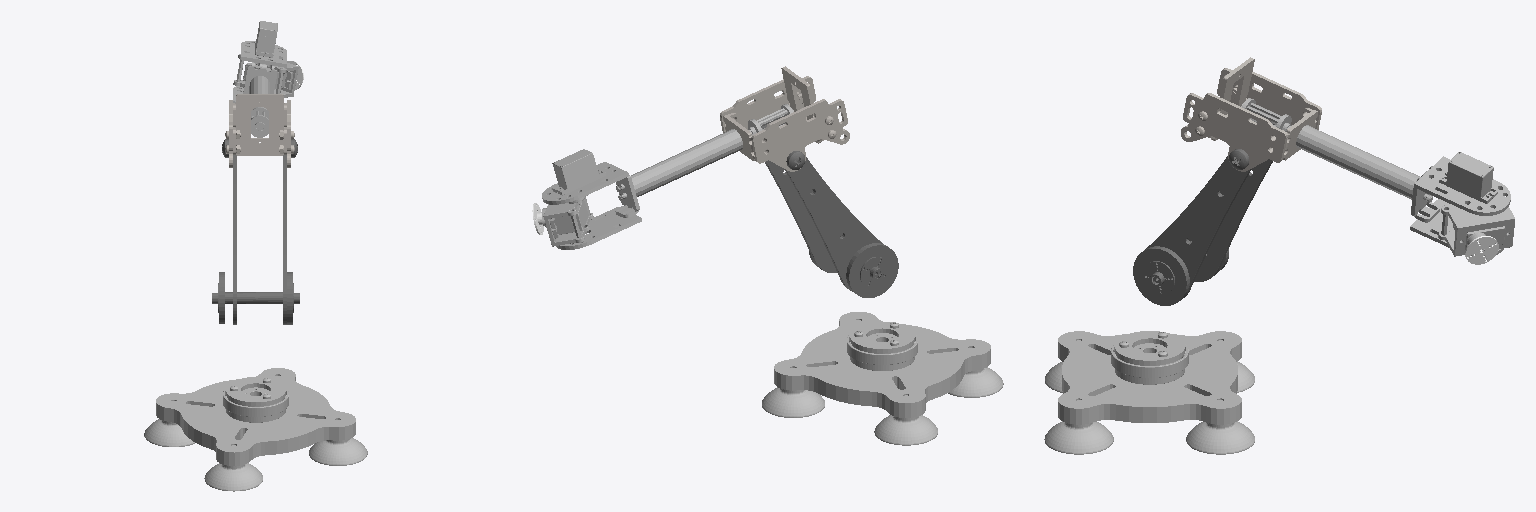
The robot description file, URDF, robot "/brazo_PF":
<robot
  name="/brazo_PF">

<link name="world"/>

  <joint name="fixed" type="fixed">
    <parent link="world"/>
    <child link="base_to_giro"/>
  </joint>

  <link
    name="base_to_giro">
    <inertial>
      <origin
        xyz="4.8481E-15 -1.6518E-13 0.0065907"
        rpy="0 0 0" />
      <mass
        value="0.26727" />
      <inertia
        ixx="0.0002228"
        ixy="-1.3665E-15"
        ixz="-3.2911E-09"
        iyy="0.0002228"
        iyz="-1.9001E-09"
        izz="0.00042782" />
    </inertial>
    <visual>
      <origin
        xyz="0 0 0"
        rpy="0 0 0" />
      <geometry>
        <mesh
          filename="package://brazo_PF/meshes/base_link.dae" />
      </geometry>
      <material
        name="">
        <color
          rgba="0.75294 0.75294 0.75294 1" />
      </material>
    </visual>
    <collision>
      <origin
        xyz="0.0001 0.0001 0.0001"
        rpy="0 0 0" />
      <geometry>
        <mesh
          filename="package://brazo_PF/meshes/base_link.dae" />
      </geometry>
    </collision>
  </link>
  <link
    name="link_giro">
    <inertial>
      <origin
        xyz="0.00096417 0.0016711 0.021724"
        rpy="0 0 0" />
      <mass
        value="0.26292" />
      <inertia
        ixx="0.0002813"
        ixy="3.324E-05"
        ixz="-1.4029E-05"
        iyy="0.00031973"
        iyz="-2.4312E-05"
        izz="0.00032314" />
    </inertial>
    <visual>
      <origin
        xyz="0 0 0"
        rpy="0 0 0" />
      <geometry>
        <mesh
          filename="package://brazo_PF/meshes/link_giro.dae" />
      </geometry>
      <material
        name="">
        <color
          rgba="0.75294 0.75294 0.75294 1" />
      </material>
    </visual>
    <collision>
      <origin
        xyz="0 0 0"
        rpy="0 0 0" />
      <geometry>
        <mesh
          filename="package://brazo_PF/meshes/link_giro.dae" />
      </geometry>
    </collision>
  </link>
  <joint name="Joint_giro" type="revolute">
    <origin
      xyz="0 0 0.022"
      rpy="-1.2292E-15 -1.1943E-15 7.3129E-32" />
    <parent
      link="base_to_giro" />
    <child
      link="link_giro" />
    <axis
      xyz="0 0 1" />
    <limit
      lower="-3.0"
      upper="3.0"
      effort="1"
      velocity="0.65" />
      <dynamics damping="0.7" />
  </joint>

  <link
    name="link_ante">
    <inertial>
      <origin
        xyz="-0.016633 0.027136 0.023335"
        rpy="0 0 0" />
      <mass
        value="0.055284" />
      <inertia
        ixx="6.8042E-05"
        ixy="2.9149E-05"
        ixz="-5.0246E-07"
        iyy="3.8057E-05"
        iyz="7.4452E-07"
        izz="7.1688E-05" />
    </inertial>
    <visual>
      <origin
        xyz="0 0 0"
        rpy="0 0 0" />
      <geometry>
        <mesh
          filename="package://brazo_PF/meshes/link_ante.dae" />
      </geometry>
      <material
        name="">
        <color
          rgba="0.49804 0.49804 0.49804 1" />
      </material>
    </visual>
    <collision>
      <origin
        xyz="0 0 0"
        rpy="0 0 0" />
      <geometry>
        <mesh
          filename="package://brazo_PF/meshes/link_ante.dae" />
      </geometry>
    </collision>
  </link>
  <joint
    name="Joint_Ante"
    type="revolute">
    <origin
      xyz="0.032369 0.0050749 0.060365"
      rpy="1.5708 4.1473E-16 -2.0941" />
    <parent
      link="link_giro" />
    <child
      link="link_ante" />
    <axis
      xyz="0 0 -1" />
    <limit
      lower="-1"
      upper="1"
      effort="1"
      velocity="0.3" />
      <dynamics damping="0.7" />
     
  </joint>
  <link
    name="Link_Cabe">
    <inertial>
      <origin
        xyz="-0.0049821 0.017822 0.020675"
        rpy="0 0 0" />
      <mass
        value="0.039731" />
      <inertia
        ixx="1.4781E-05"
        ixy="2.3994E-06"
        ixz="-3.5305E-12"
        iyy="2.4981E-05"
        iyz="-8.1746E-14"
        izz="1.8933E-05" />
    </inertial>
    <visual>
      <origin
        xyz="0 0 0"
        rpy="0 0 0" />
      <geometry>
        <mesh
          filename="package://brazo_PF/meshes/Link_Cabe.dae" />
      </geometry>
      <material
        name="">
        <color
          rgba="0.77647 0.75686 0.73725 1" />
      </material>
    </visual>
    <collision>
      <origin
        xyz="0 0 0"
        rpy="0 0 0" />
      <geometry>
        <mesh
          filename="package://brazo_PF/meshes/Link_Cabe.dae" />
      </geometry>
    </collision>
  </link>
  <joint
    name="Joint_Cabe"
    type="revolute">
    <origin
      xyz="-0.051814 0.08553 0.0435"
      rpy="-3.1416 1.0547E-15 -3.1416" />
    <parent
      link="link_ante" />
    <child
      link="Link_Cabe" />
    <axis
      xyz="0 0 1" />
    <limit
      lower="-1.57"
      upper="1.3"
      effort="1.1"
      velocity="0.65" />
      <!-- <dynamics damping="0.5" /> -->
  </joint>
  <link
    name="Link_giro_brazo">
    <inertial>
      <origin
        xyz="-0.00012055 0.00071169 0.097682"
        rpy="0 0 0" />
      <mass
        value="0.062038" />
      <inertia
        ixx="0.00011856"
        ixy="7.4607E-07"
        ixz="3.8551E-07"
        iyy="0.0001144"
        iyz="-2.2062E-06"
        izz="8.4168E-06" />
    </inertial>
    <visual>
      <origin
        xyz="0 0 0"
        rpy="0 0 0" />
      <geometry>
        <mesh
          filename="package://brazo_PF/meshes/Link_giro_brazo.dae" />
      </geometry>
      <material
        name="">
        <color
          rgba="0.75294 0.75294 0.75294 1" />
      </material>
    </visual>
    <collision>
      <origin
        xyz="0 0 0"
        rpy="0 0 0" />
      <geometry>
        <mesh
          filename="package://brazo_PF/meshes/Link_giro_brazo.dae" />
      </geometry>
    </collision>
  </link>
  <joint
    name="Joint_giro_brazo"
    type="revolute">
    <origin
      xyz="-0.0087752 0.019833 0.020675"
      rpy="0.20089 1.5708 0" />
    <parent
      link="Link_Cabe" />
    <child
      link="Link_giro_brazo" />
    <axis
      xyz="0 0 -1" />
    <limit
      lower="-3.0"
      upper="3.0"
      effort="0.1"
      velocity="0.1" />
      </joint>
  <link
    name="Link_muneca">
    <inertial>
      <origin
        xyz="2.3113E-06 -0.0096578 0.0092688"
        rpy="0 0 0" />
      <mass
        value="0.015068" />
      <inertia
        ixx="1.6097E-06"
        ixy="3.6664E-08"
        ixz="-7.1386E-11"
        iyy="2.602E-06"
        iyz="4.3518E-10"
        izz="2.3653E-06" />
    </inertial>
    <visual>
      <origin
        xyz="0 0 0"
        rpy="0 0 0" />
      <geometry>
        <mesh
          filename="package://brazo_PF/meshes/Link_muneca.dae" />
      </geometry>
      <material
        name="">
        <color
          rgba="0.75294 0.75294 0.75294 1" />
      </material>
    </visual>
    <collision>
      <origin
        xyz="0 0 0"
        rpy="0 0 0" />
      <geometry>
        <mesh
          filename="package://brazo_PF/meshes/Link_muneca.dae" />
      </geometry>
    </collision>
  </link>
  <joint
    name="Joint_muneca"
    type="revolute">
    <origin
      xyz="-0.0011973 0.0068867 0.15251"
      rpy="-1.5708 0.69932 -2.9695" />
    <parent
      link="Link_giro_brazo" />
    <child
      link="Link_muneca" />
    <axis
      xyz="0 0 -1" />
    <limit
      lower="-1.57"
      upper="1.57"
      effort="0.05"
      velocity="0.1" />
  </joint>
  <link
    name="Link_mano">
    <inertial>
      <origin
        xyz="-0.001097 0.00031683 0.00041728"
        rpy="0 0 0" />
      <mass
        value="0.00054683" />
      <inertia
        ixx="1.8792E-08"
        ixy="-2.214E-09"
        ixz="-2.916E-09"
        iyy="1.1766E-08"
        iyz="8.4217E-10"
        izz="1.2235E-08" />
    </inertial>
    <visual>
      <origin
        xyz="0 0 0"
        rpy="0 0 0" />
      <geometry>
        <mesh
          filename="package://brazo_PF/meshes/Link_mano.dae" />
      </geometry>
      <material
        name="">
        <color
          rgba="1 1 1 1" />
      </material>
    </visual>
    <collision>
      <origin
        xyz="0 0 0"
        rpy="0 0 0" />
      <geometry>
        <mesh
          filename="package://brazo_PF/meshes/Link_mano.dae" />
      </geometry>
    </collision>
  </link>
  <joint
    name="Joint_mano"
    type="revolute">
    <origin
      xyz="0.0045965 -0.02867 0.0093338"
      rpy="-1.4833 0.24918 -1.2291" />
    <parent
      link="Link_muneca" />
    <child
      link="Link_mano" />
    <axis
      xyz="0.90237 -0.26061 -0.34324" />
    <limit
      lower="-3.0"
      upper="3.0"
      effort="0.0001"
      velocity="0.01" />

  </joint>

<gazebo>
  <plugin name="gazebo_ros_control" filename="libgazebo_ros_control.so">
    <robotNamespace>/brazo_PF</robotNamespace>
      </plugin>
</gazebo>

  <transmission name="tran1">
    <type>transmission_interface/SimpleTransmission</type>
    <joint name="Joint_giro">
      <hardwareInterface>EffortJointInterface</hardwareInterface>
    </joint>
    <actuator name="motor1">
      <hardwareInterface>EffortJointInterface</hardwareInterface>
      <mechanicalReduction>1</mechanicalReduction>
    </actuator>
  </transmission>

  <transmission name="tran2">
    <type>transmission_interface/SimpleTransmission</type>
    <joint name="Joint_Ante">
      <hardwareInterface>EffortJointInterface</hardwareInterface>
    </joint>
    <actuator name="motor2">
      <hardwareInterface>EffortJointInterface</hardwareInterface>
      <mechanicalReduction>1</mechanicalReduction>
    </actuator>
  </transmission>

<transmission name="tran3">
    <type>transmission_interface/SimpleTransmission</type>
    <joint name="Joint_Cabe">
      <hardwareInterface>EffortJointInterface</hardwareInterface>
    </joint>
    <actuator name="motor3">
      <hardwareInterface>EffortJointInterface</hardwareInterface>
      <mechanicalReduction>1</mechanicalReduction>
    </actuator>
  </transmission>

  <transmission name="tran4">
    <type>transmission_interface/SimpleTransmission</type>
    <joint name="Joint_giro_brazo">
      <hardwareInterface>EffortJointInterface</hardwareInterface>
    </joint>
    <actuator name="motor4">
      <hardwareInterface>EffortJointInterface</hardwareInterface>
      <mechanicalReduction>1</mechanicalReduction>
    </actuator>
</transmission>

<transmission name="tran5">
    <type>transmission_interface/SimpleTransmission</type>
    <joint name="Joint_muneca">
      <hardwareInterface>EffortJointInterface</hardwareInterface>
    </joint>
    <actuator name="motor5">
      <hardwareInterface>EffortJointInterface</hardwareInterface>
      <mechanicalReduction>1</mechanicalReduction>
    </actuator>
  </transmission>

  <transmission name="tran6">
    <type>transmission_interface/SimpleTransmission</type>
    <joint name="Joint_mano">
      <hardwareInterface>EffortJointInterface</hardwareInterface>
    </joint>
    <actuator name="motor6">
      <hardwareInterface>EffortJointInterface</hardwareInterface>
      <mechanicalReduction>1</mechanicalReduction>
    </actuator>
</transmission>
</robot>

--- What the picture shows (computed from the rendered views, not written in the file) ---
3 views of the same robot in one strip: view 1: azimuth 30°, elevation 25°; view 2: azimuth 150°, elevation 25°; view 3: azimuth 270°, elevation 25° (orthographic).
Model /brazo_PF with 8 links and 7 joints (6 revolute, 1 fixed), rooted at world, posed all joints at 0.
Links seen in each view (by area): view 1: base_to_giro, Link_Cabe, link_ante, Link_giro_brazo, Link_muneca; view 2: base_to_giro, link_ante, Link_giro_brazo, Link_Cabe, Link_muneca; view 3: base_to_giro, link_ante, Link_giro_brazo, Link_Cabe, Link_muneca, Link_mano.
Boxes of the visible links, x1,y1,x2,y2 form: base_to_giro: (144, 368, 367, 491); Link_Cabe: (225, 94, 294, 167); link_ante: (212, 139, 299, 324); Link_giro_brazo: (233, 21, 286, 137); Link_muneca: (233, 54, 298, 97); base_to_giro: (762, 312, 1003, 445); link_ante: (761, 125, 898, 297); Link_giro_brazo: (542, 104, 793, 249); Link_Cabe: (720, 66, 849, 171); Link_muneca: (542, 197, 593, 246); base_to_giro: (1044, 331, 1254, 454); link_ante: (1133, 121, 1276, 305); Link_giro_brazo: (1241, 98, 1510, 255); Link_Cabe: (1181, 57, 1321, 171); Link_muneca: (1438, 196, 1514, 256); Link_mano: (1465, 236, 1498, 264).
Size in the robot's own frame: 0.1997 by 0.2659 by 0.2285 metres.
Meshes: 7 distinct files referenced, 6 mesh visuals loaded (6 Collada DAE); not drawn: 1 (reference not matched to a file when rendering).
